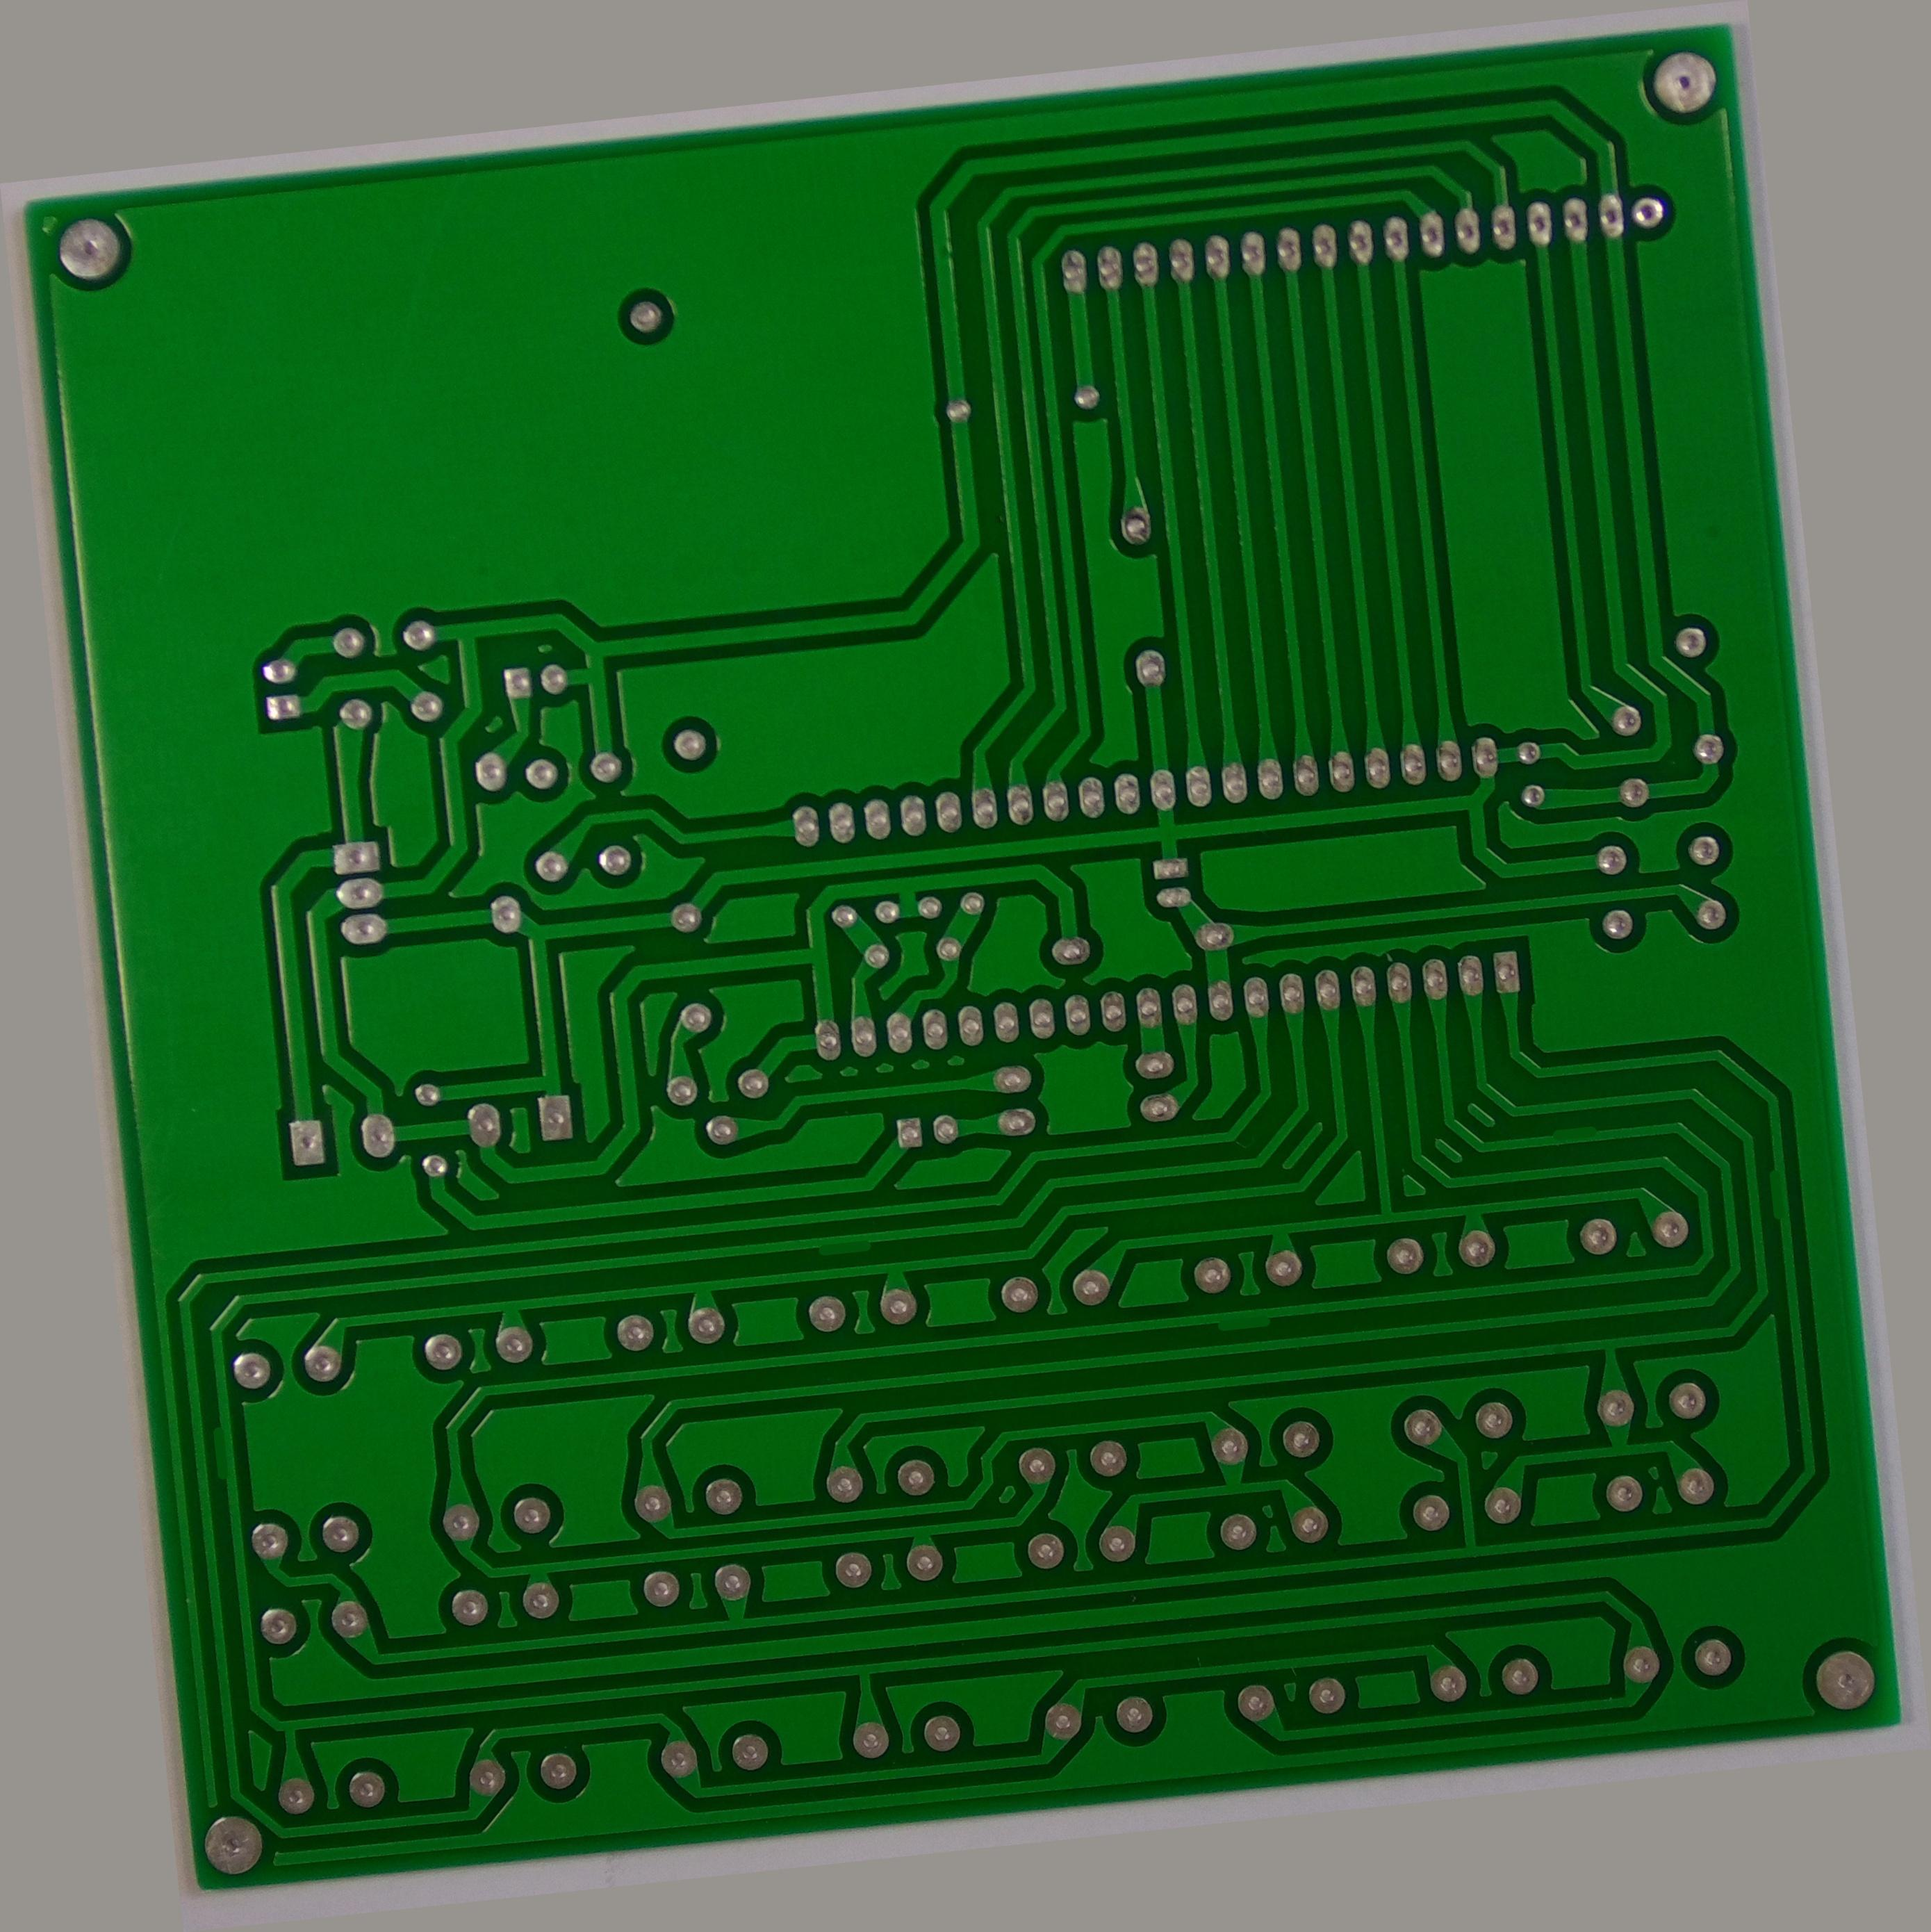spur: (757, 1237, 847, 1279), (1181, 1362, 1268, 1401), (76, 1376, 118, 1451), (1577, 1196, 1646, 1237), (1809, 1274, 1843, 1348)
